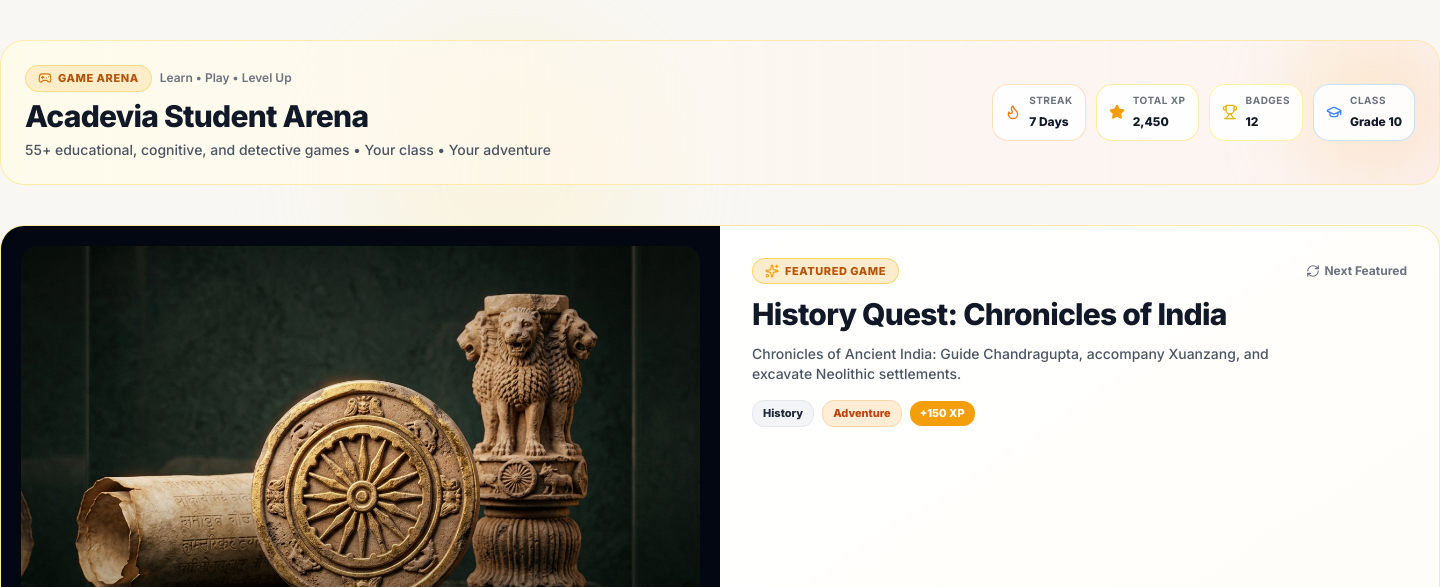
Test case: GamesPage Render & Catalog Integrity › defaults to History Quest: Chronicles of India as Featured Game on All Games, supports Next Featured, and preserves category featured behavior
Expected: the heading "History Quest: Chronicles of India" is shown, [752, 296, 1227, 332]
Expected: the text "History" is shown, [752, 400, 814, 426]
// Test "Next Featured" button advances rotation
Click the button "Next Featured" at (1357, 271), box [1306, 263, 1407, 279]
(page scrolled)
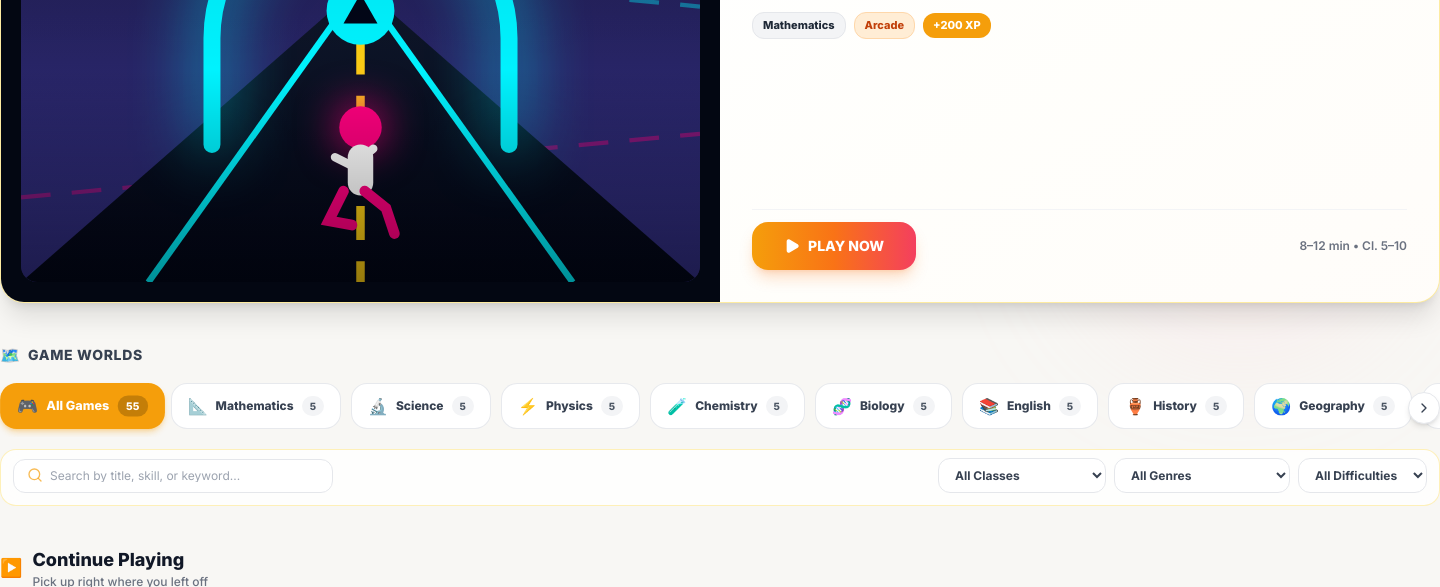
// Test switching category tab to Mathematics updates featured game to Vedic Math Rush
Click the button "📐 Mathematics 5" at (256, 406), box [171, 383, 341, 429]
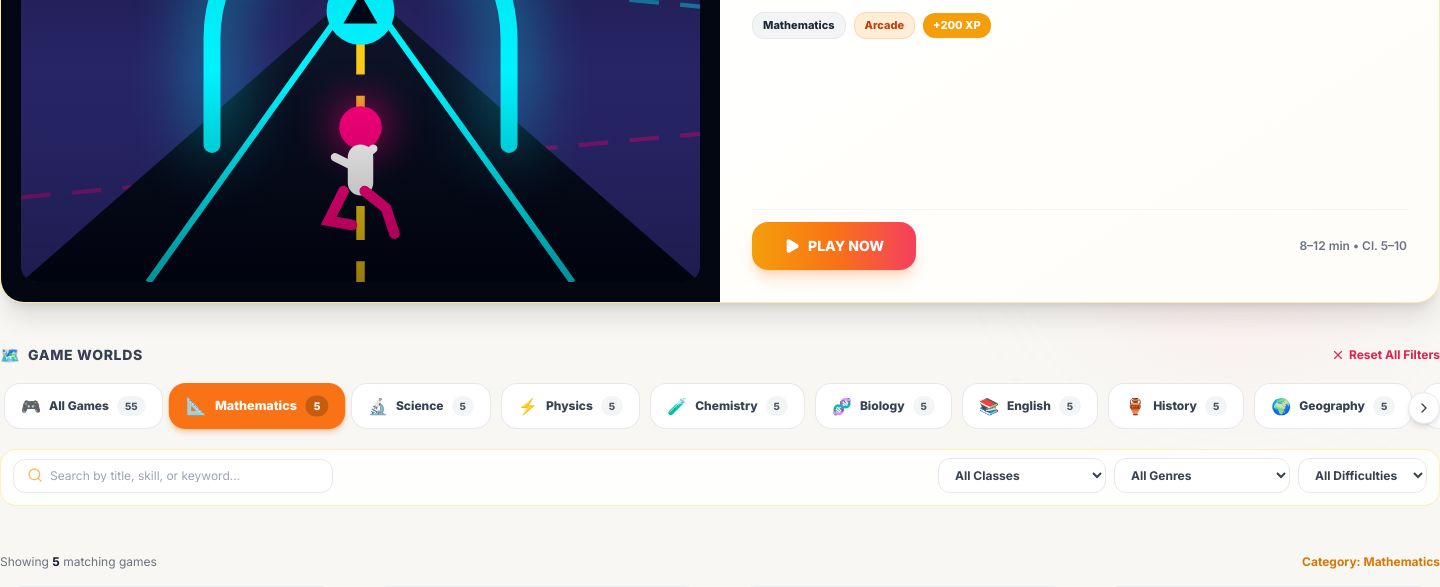
// Test switching back to All Games tab resets featured game to History Quest
Click the button "🎮 All Games 55" at (83, 406), box [4, 383, 163, 429]
(page scrolled)
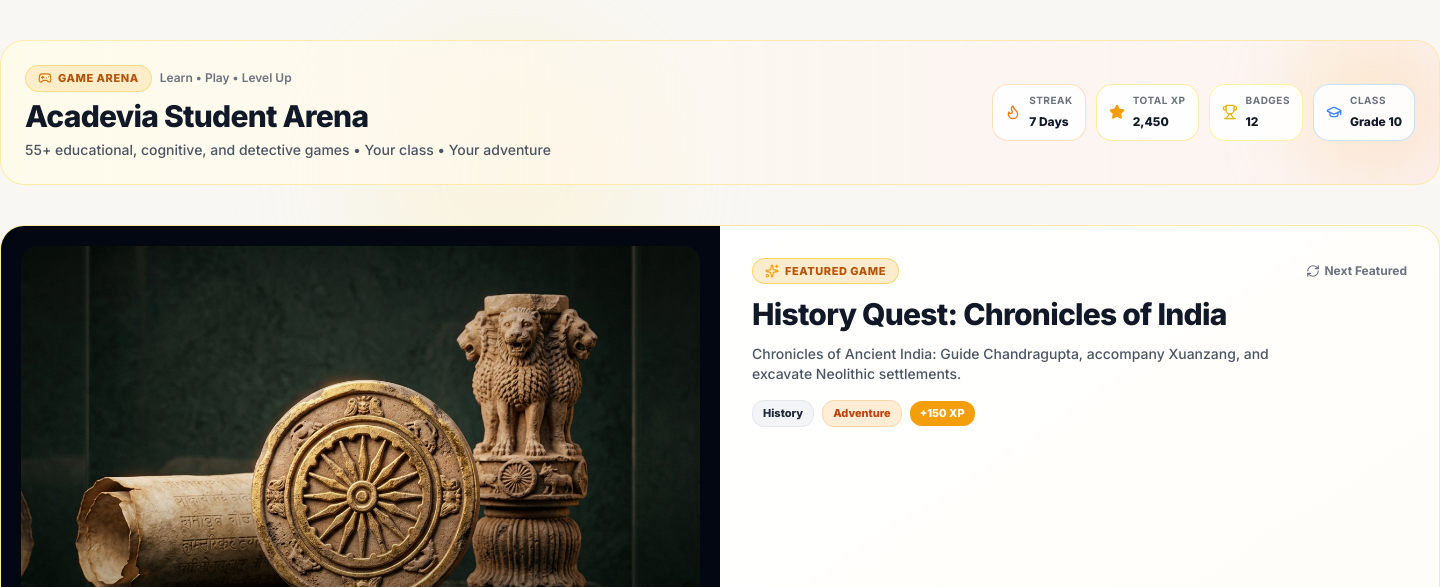
Result: the heading "History Quest: Chronicles of India" is shown at [752, 296, 1227, 332]
